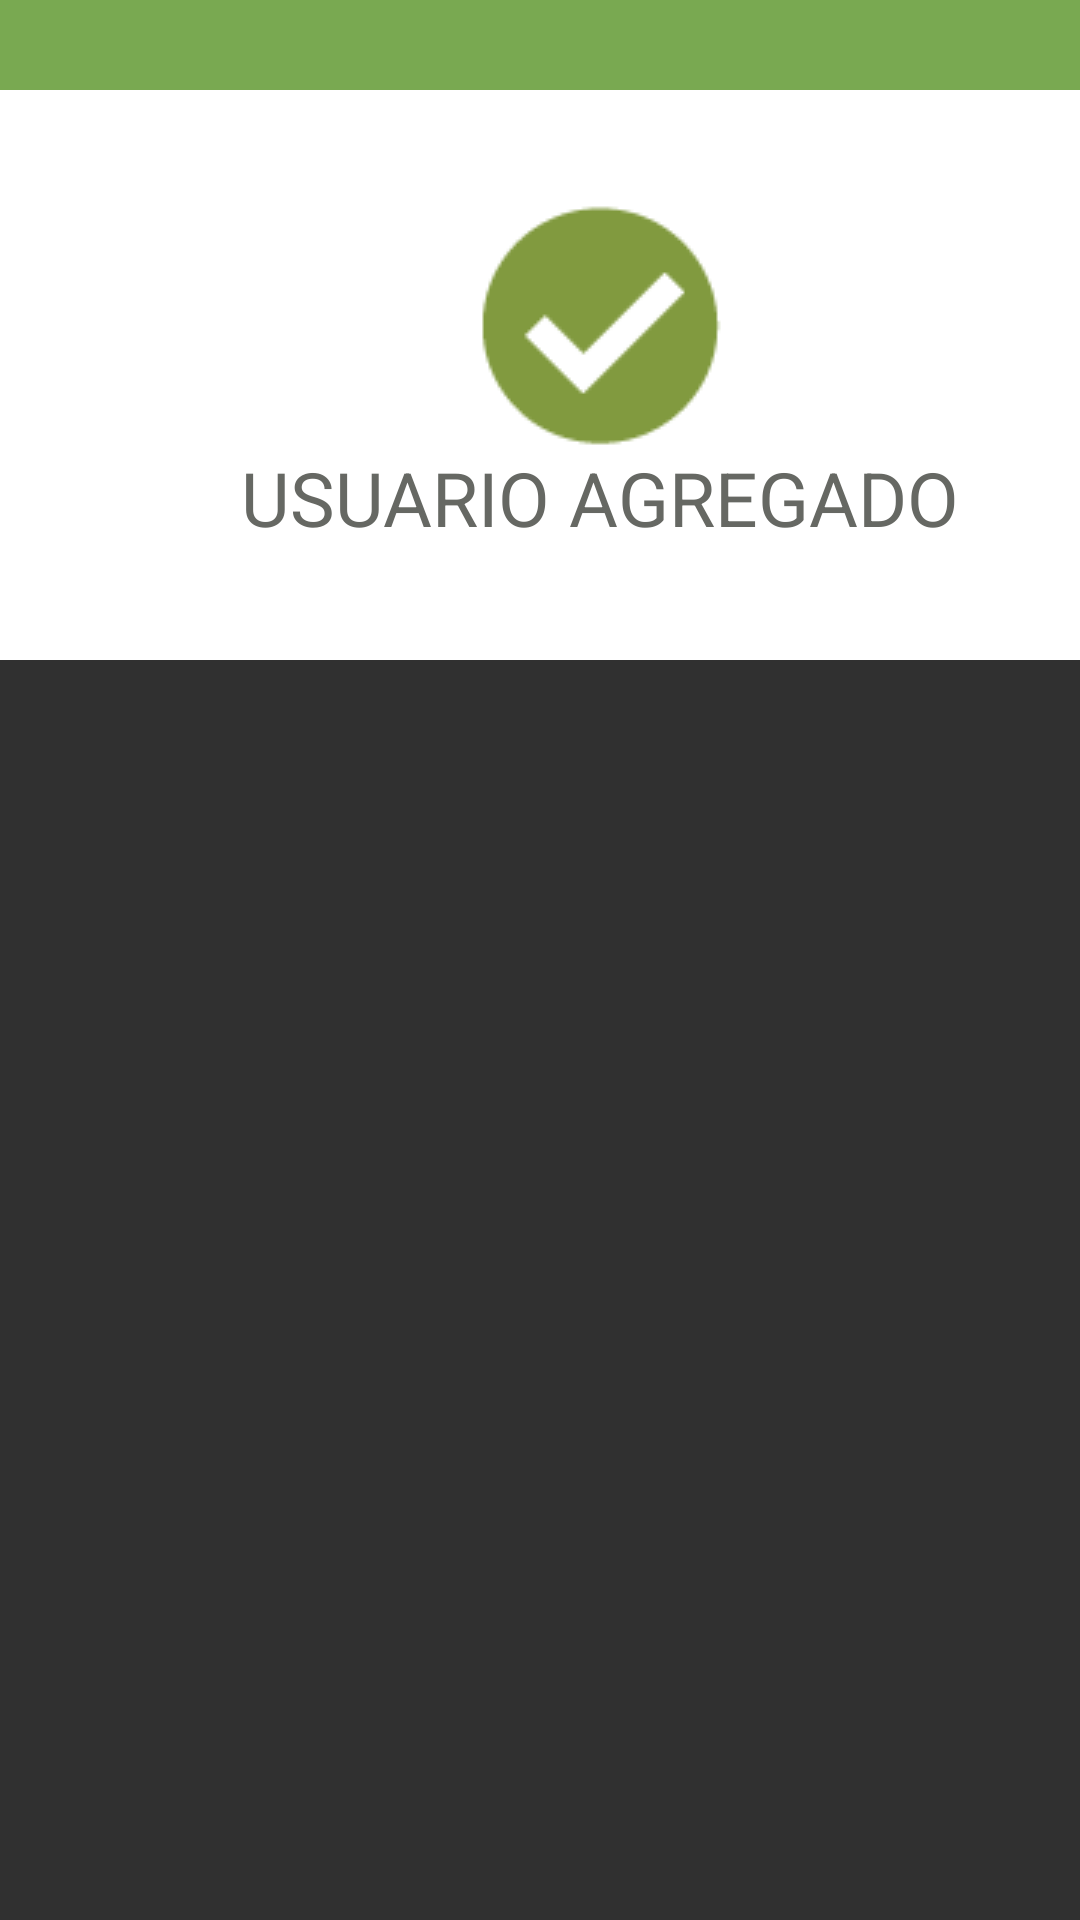

Screen size 1080px×1920px. Icon name, then its box in pixels as detection(x1, y1, x2, y2):
correcto: detection(482, 206, 720, 445)
